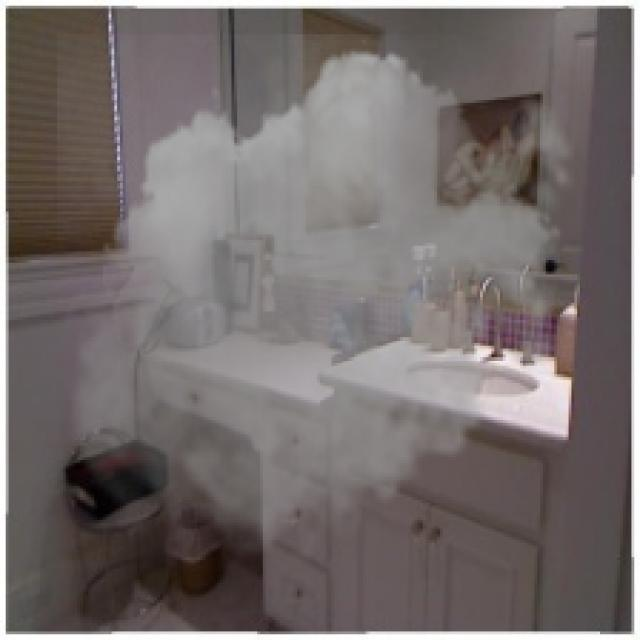smoke: (57, 34, 592, 577)
